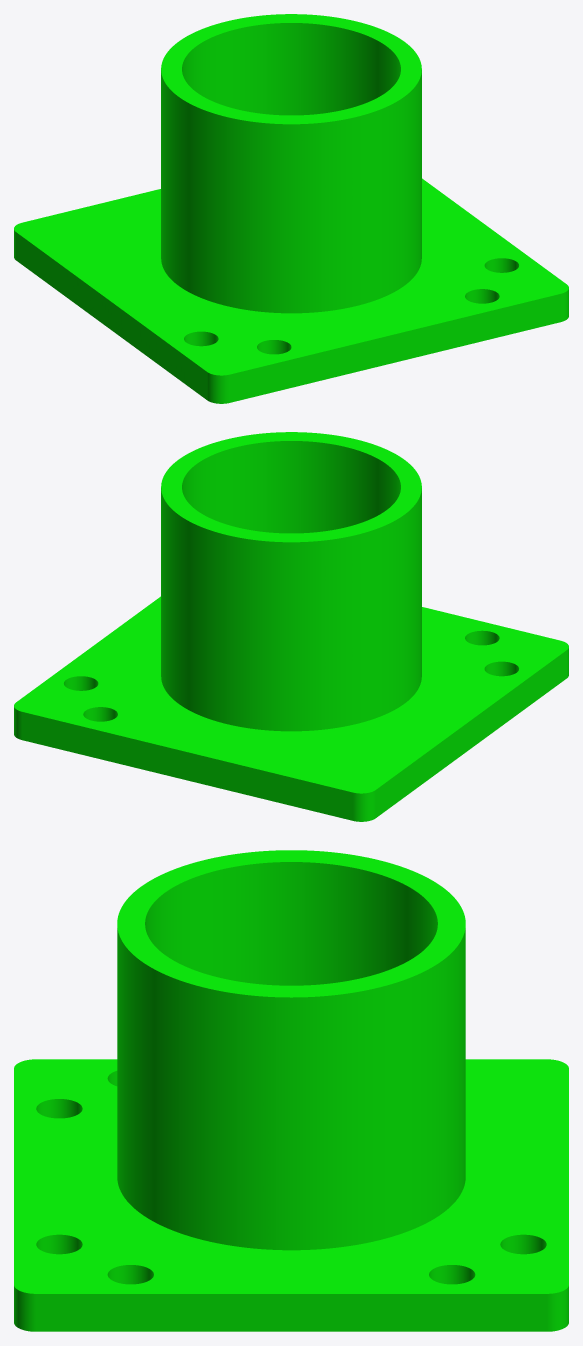
File: Cube 1x1 V5_Flashlight Mount V1.obj
The picture shows the model from 3 angles, top to bottom: view 1: azimuth 30°, elevation 25°; view 2: azimuth 150°, elevation 25°; view 3: azimuth 270°, elevation 25°; orthographic projection. The views are drawn at different scales.
Parts seen in each view (by area): view 1: Solid1:34; view 2: Solid1:34; view 3: Solid1:34.
Boxes of the visible parts, bbox=[...] form: Solid1:34: bbox=[14, 14, 568, 403]; Solid1:34: bbox=[14, 432, 568, 821]; Solid1:34: bbox=[14, 850, 568, 1331].
Size of the model in its own units: 49.75 by 28.75 by 49.75.
